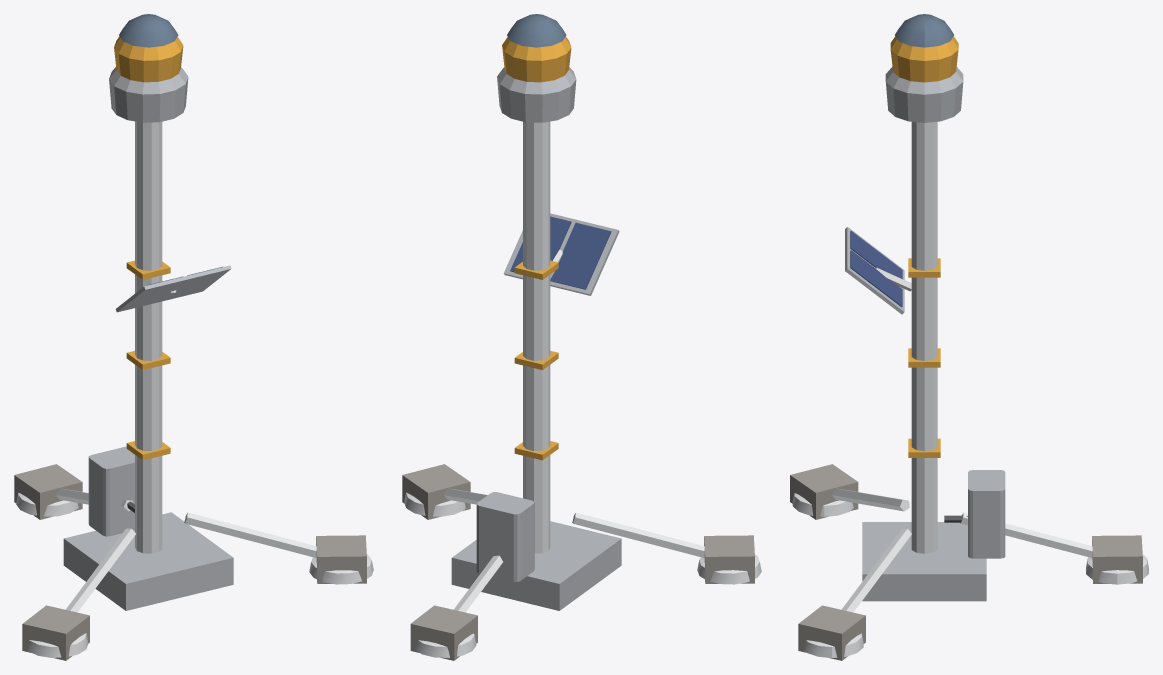
The model's file is approach-light-beacon-20fb9bc6.glb.
The picture shows the model from 3 angles, left to right: view 1: azimuth 30°, elevation 25°; view 2: azimuth 150°, elevation 25°; view 3: azimuth 270°, elevation 25°; orthographic projection.
Parts seen in each view (by area): view 1: approach-light-beacon; view 2: approach-light-beacon; view 3: approach-light-beacon.
Part boxes in pixels (x1,y1,x2,y2): approach-light-beacon: (14, 14, 373, 660); approach-light-beacon: (402, 14, 761, 660); approach-light-beacon: (790, 14, 1148, 660).
Size of the model in its own units: 3.23 by 4.95 by 2.88.
